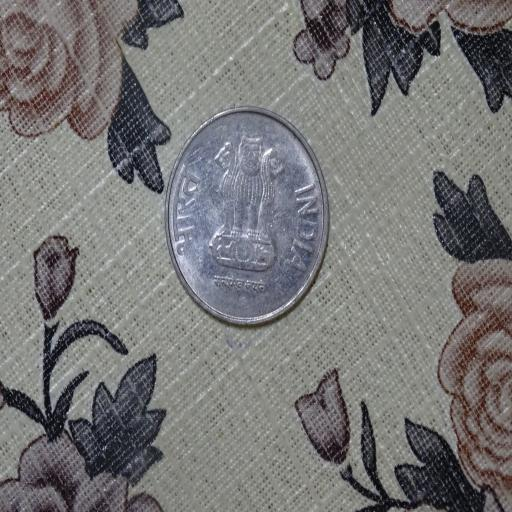rupee2: (163, 107, 332, 332)
